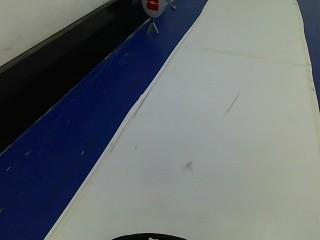company: (136, 0, 171, 19)
